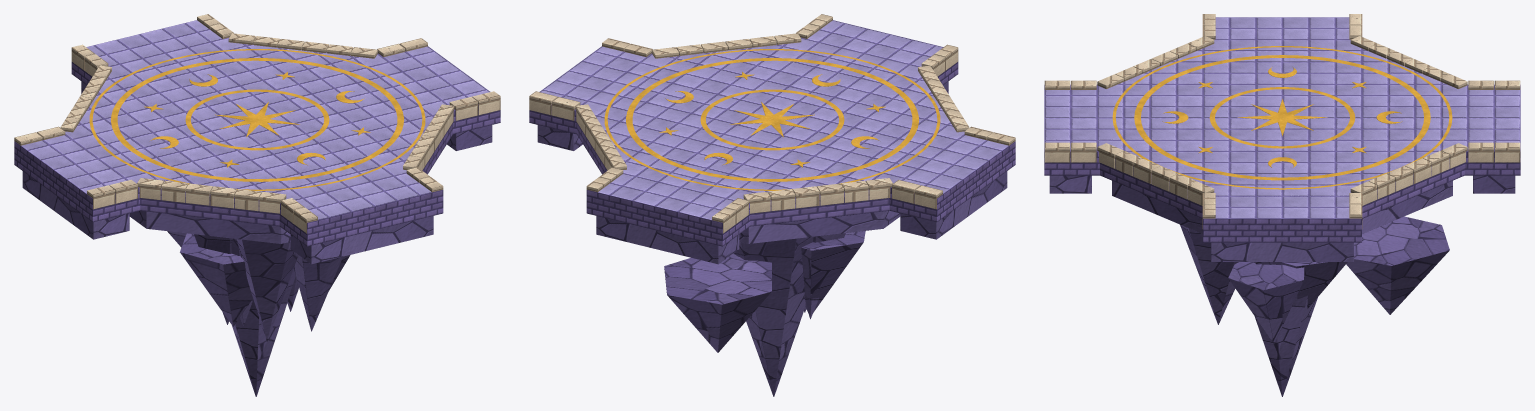
Rendered from Plataforma_Circular.fbx.
The picture shows the model from 3 angles, left to right: view 1: azimuth 30°, elevation 25°; view 2: azimuth 150°, elevation 25°; view 3: azimuth 270°, elevation 25°; orthographic projection.
Visible parts, largest first — view 1: Mod_Plataforma_Circular; view 2: Mod_Plataforma_Circular; view 3: Mod_Plataforma_Circular.
Boxes of the visible parts, bbox=[...] form: Mod_Plataforma_Circular: bbox=[14, 14, 500, 396]; Mod_Plataforma_Circular: bbox=[529, 14, 1015, 396]; Mod_Plataforma_Circular: bbox=[1044, 14, 1520, 396].
Size of the model in its own units: 18 by 11.81 by 18.
